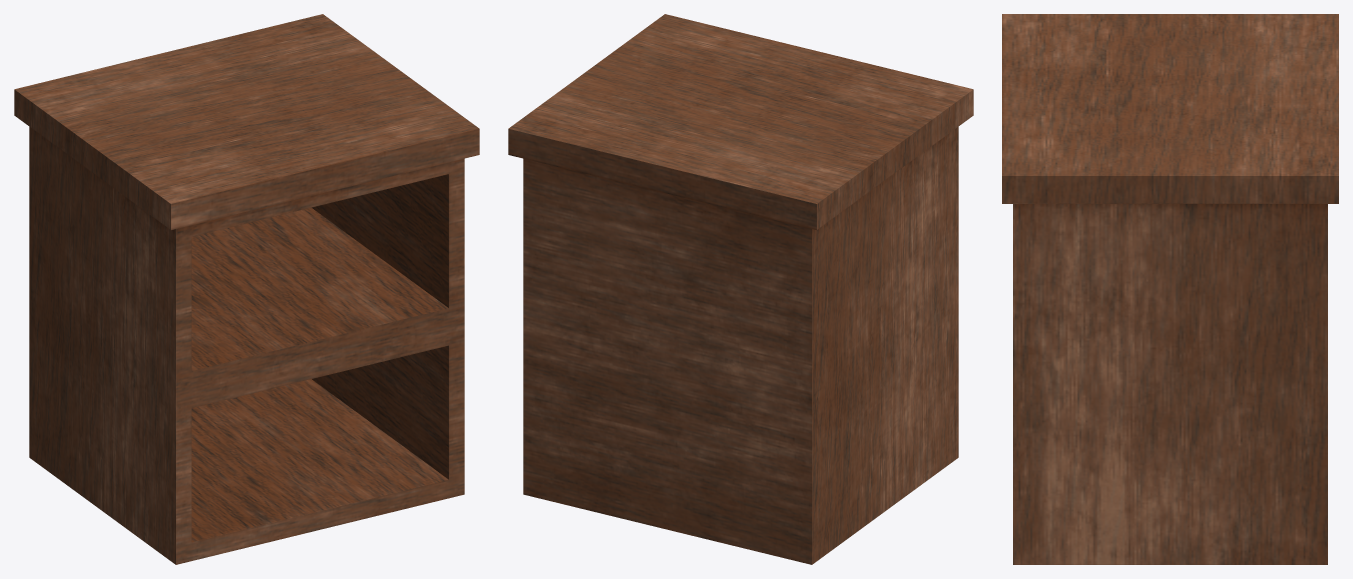
File: mesa de cabiceira_TEXTURIZADA.fbx
3 views of the same model, side by side, from view 1: azimuth 30°, elevation 25°; view 2: azimuth 150°, elevation 25°; view 3: azimuth 270°, elevation 25° (orthographic). The views are drawn at different scales.
Visible parts, largest first — view 1: Cube.093; view 2: Cube.093; view 3: Cube.093.
Part boxes in pixels (x1=…): Cube.093: x1=14, y1=14, x2=479, y2=564; Cube.093: x1=508, y1=14, x2=973, y2=564; Cube.093: x1=1002, y1=14, x2=1338, y2=564.
Bounding box in the file's own units: 65.63 × 74.58 × 57.73.
1 material, 1 textured.
